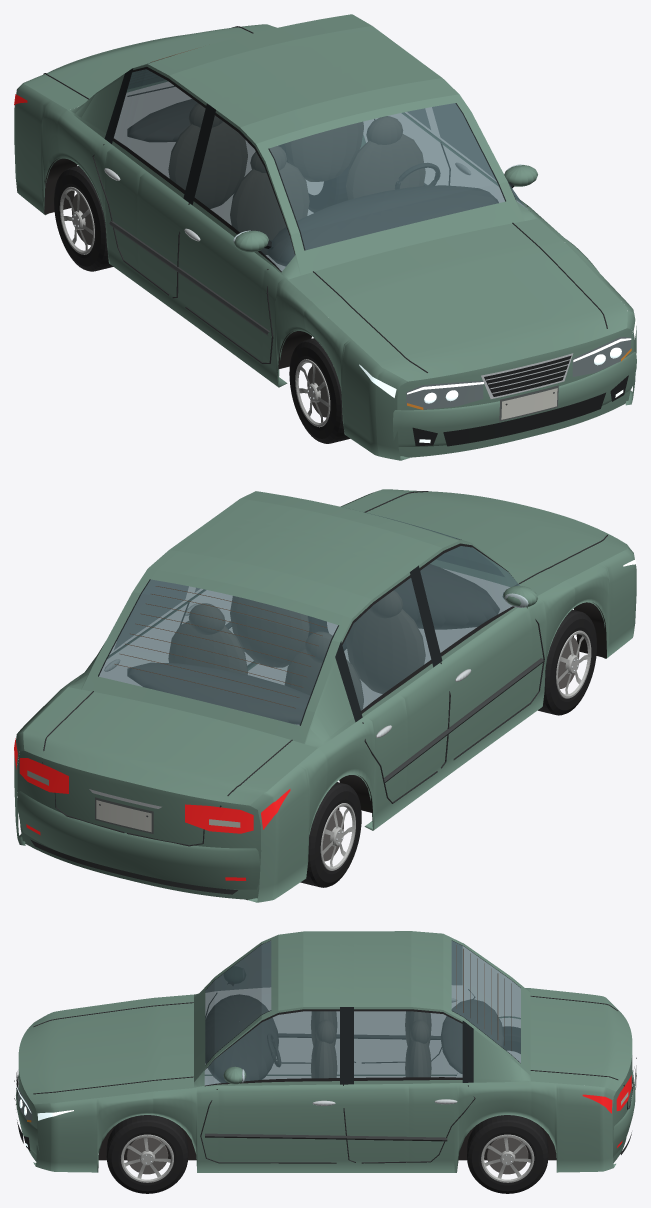
The model's file is classic-sedan.glb.
3 renders of one model, top to bottom at view 1: azimuth 30°, elevation 25°; view 2: azimuth 150°, elevation 25°; view 3: azimuth 270°, elevation 25°, orthographic. The views are drawn at different scales.
Visible parts, largest first — view 1: classic-sedan, wheel_FR, wheel_RR, wheel_RL; view 2: classic-sedan, wheel_RR, wheel_FR; view 3: classic-sedan, wheel_FL, wheel_RL, wheel_RR.
Boxes of the visible parts, x1,y1,x2,y2 form: classic-sedan: (14,14,636,460); wheel_FR: (289,338,350,443); wheel_RR: (54,166,113,271); wheel_RL: (285,148,349,212); classic-sedan: (14,489,636,902); wheel_RR: (300,782,361,887); wheel_FR: (538,609,596,715); classic-sedan: (14,931,636,1172); wheel_FL: (106,1115,188,1193); wheel_RL: (467,1115,548,1193); wheel_RR: (503,1026,520,1053).
Bounding box in the file's own units: 1.92 × 1.45 × 4.5.
